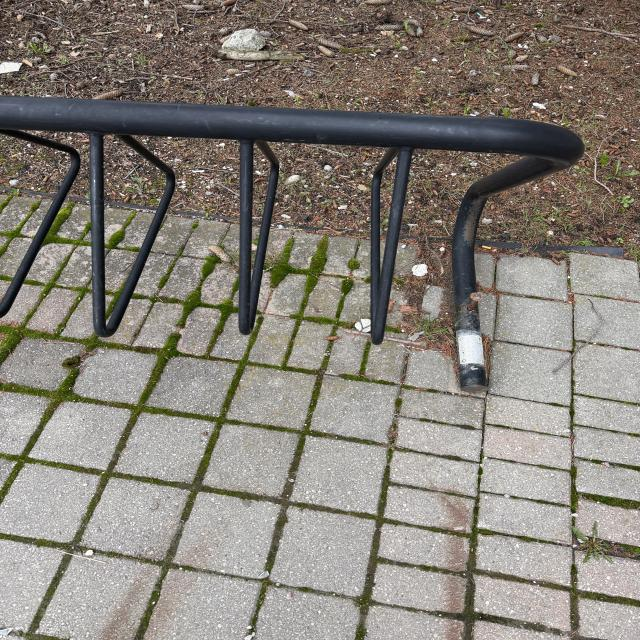Bicycle Rack: (0, 98, 585, 389)
